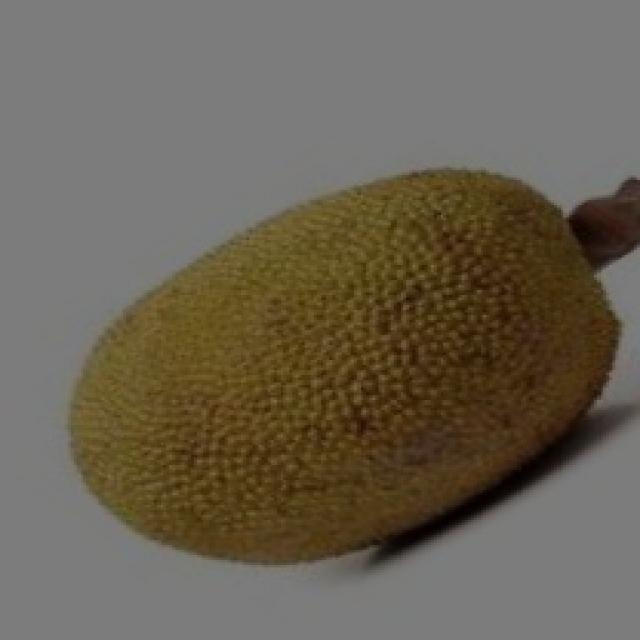Fruit: (40, 192, 458, 602), (231, 142, 640, 498)
